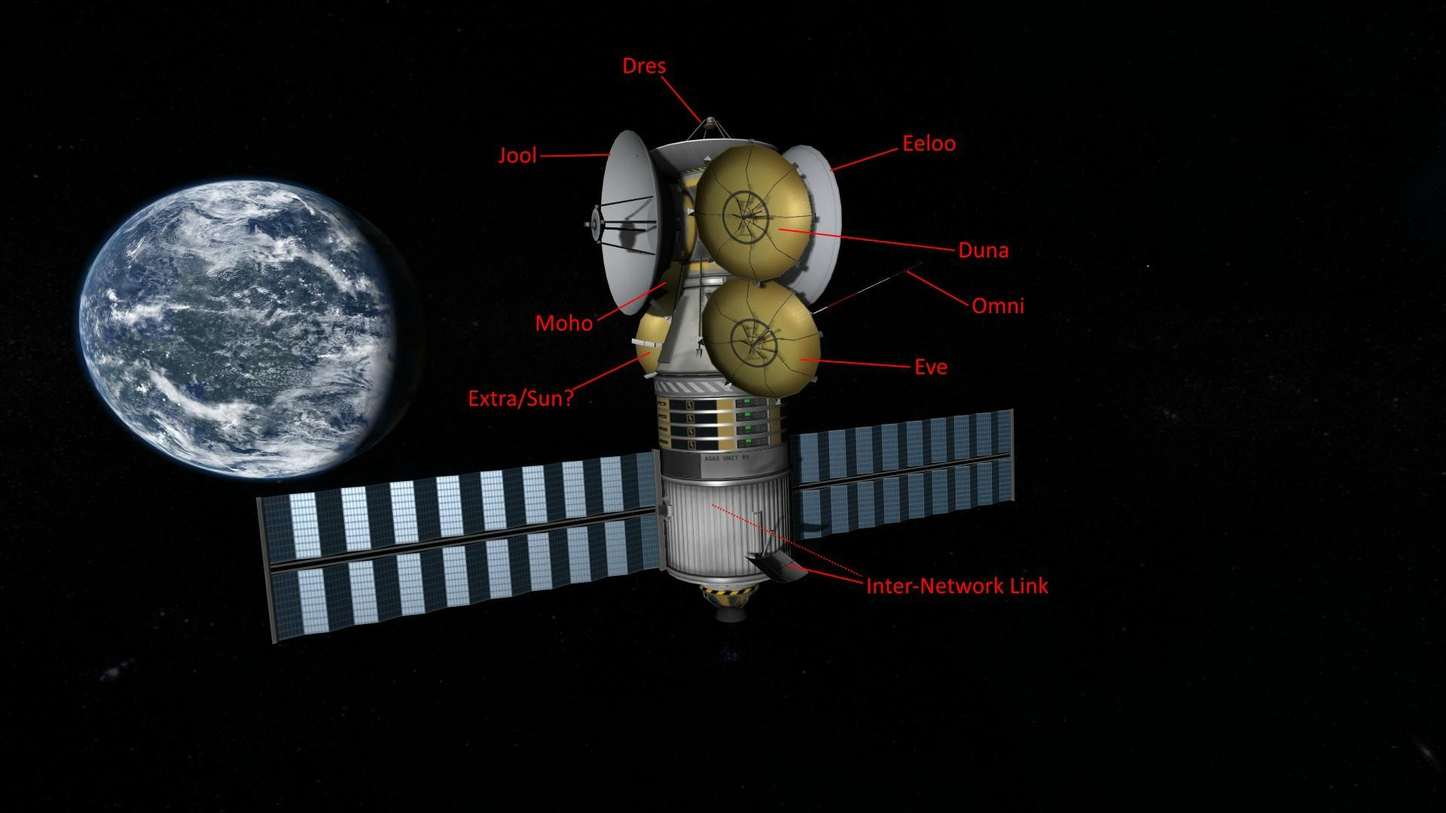antenna: (690, 142, 820, 288), (581, 126, 675, 318), (695, 274, 828, 404), (777, 141, 845, 300), (646, 114, 784, 173), (808, 257, 929, 316), (743, 550, 810, 585)
body: (651, 281, 795, 589)
solar: (253, 447, 670, 647), (786, 406, 1020, 545)
thruster: (713, 602, 750, 625)
